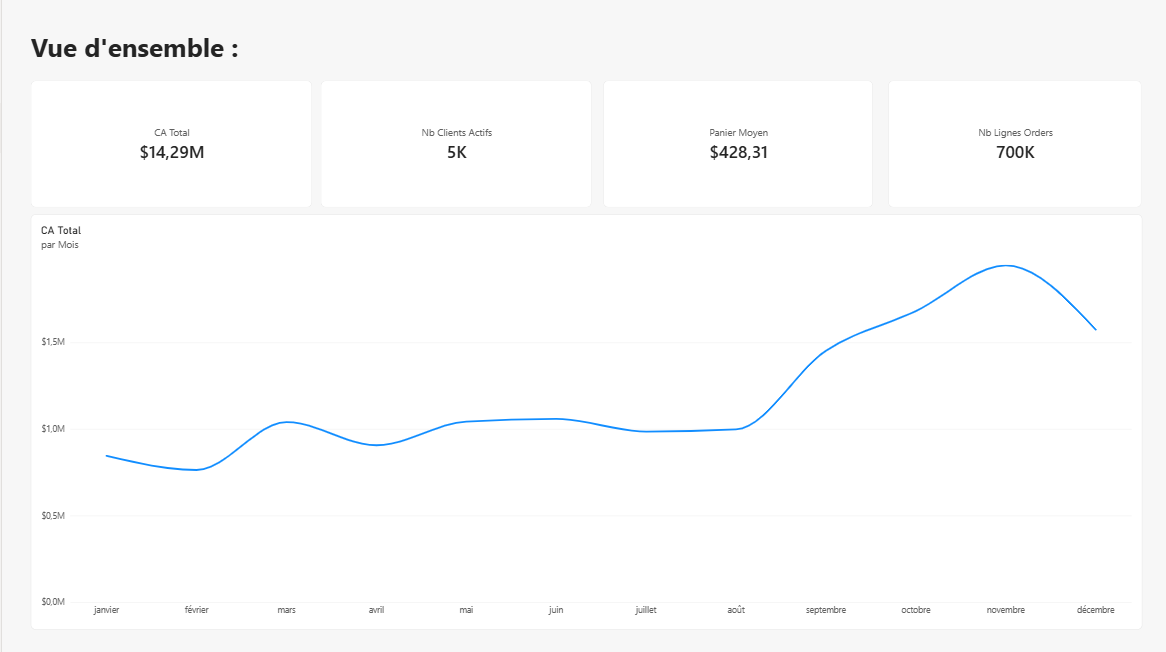

The dashboard page shown, as its layout file describes it:
{"tool":"powerbi","page":{"name":"Page 1","canvas":[1920,1080],"ordinal":0},"visuals":[{"type":"cardVisual","fields":{"Data":["orders.CA Total"]},"box":[48,38,464,256],"z":0},{"type":"cardVisual","fields":{"Data":["orders.Nb Clients Actifs"]},"box":[526,38,448,256],"z":1000},{"type":"cardVisual","fields":{"Data":["orders.Panier Moyen"]},"box":[992,38,444,256],"z":2000},{"type":"cardVisual","fields":{"Data":["orders.Nb Lignes Orders"]},"box":[1462,38,416,256],"z":4000},{"type":"lineChart","fields":{"Category":["orders.invoice_date.Variation.Hiérarchie de dates.Mois"],"Y":["orders.CA Total"]},"box":[48,320,1830,684],"z":4001}]}

Visuals, with their boxes in screenshot pixels (x1, y1, x2, y2), scaled from the page's 1920x1080 canvas onto the 1166x652 screenshot:
cardVisual - orders.CA Total: 29 23 311 177
cardVisual - orders.Nb Clients Actifs: 319 23 592 177
cardVisual - orders.Panier Moyen: 602 23 872 177
cardVisual - orders.Nb Lignes Orders: 888 23 1140 177
lineChart - orders.invoice_date.Variation.Hiérarchie de dates.Mois x orders.CA Total: 29 193 1140 606
